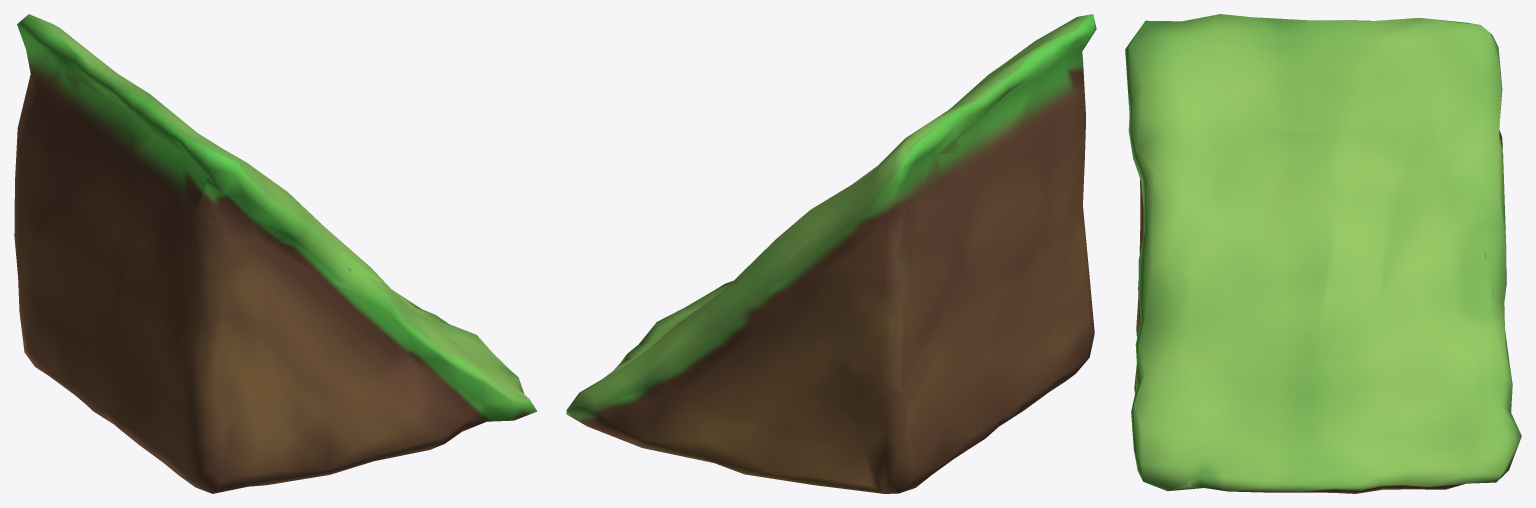
The model's file is spawn ramp1.fbx.
The picture shows the model from 3 angles, left to right: view 1: azimuth 30°, elevation 25°; view 2: azimuth 150°, elevation 25°; view 3: azimuth 270°, elevation 25°; orthographic projection. The views are drawn at different scales.
Visible parts, largest first — view 1: ramp1 LP; view 2: ramp1 LP; view 3: ramp1 LP.
Boxes of the visible parts, x1,y1,x2,y2 form: ramp1 LP: [14, 14, 537, 493]; ramp1 LP: [566, 14, 1096, 493]; ramp1 LP: [1125, 14, 1521, 493].
Bounding box in the file's own units: 408 × 390 × 420.
Materials: 1 (1 with a texture image).
